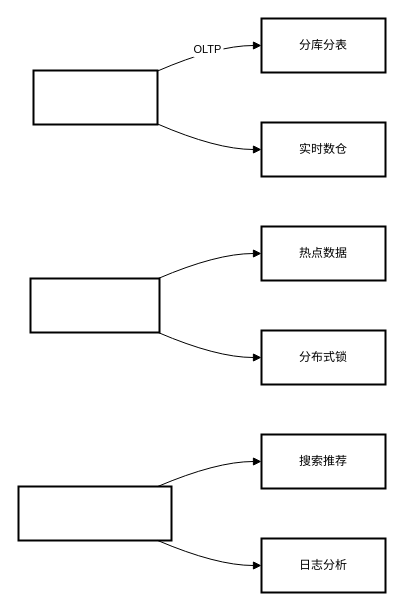
Image size: 403x610. Some labels were removed from this diagram. Here are the shapes that lost their labels. From the top down, the centre of each, then its label:
At (x=95, y=97): "TiDB集群".
At (x=94, y=305): "Redis集群".
At (x=94, y=513): "Elasticsearch".
